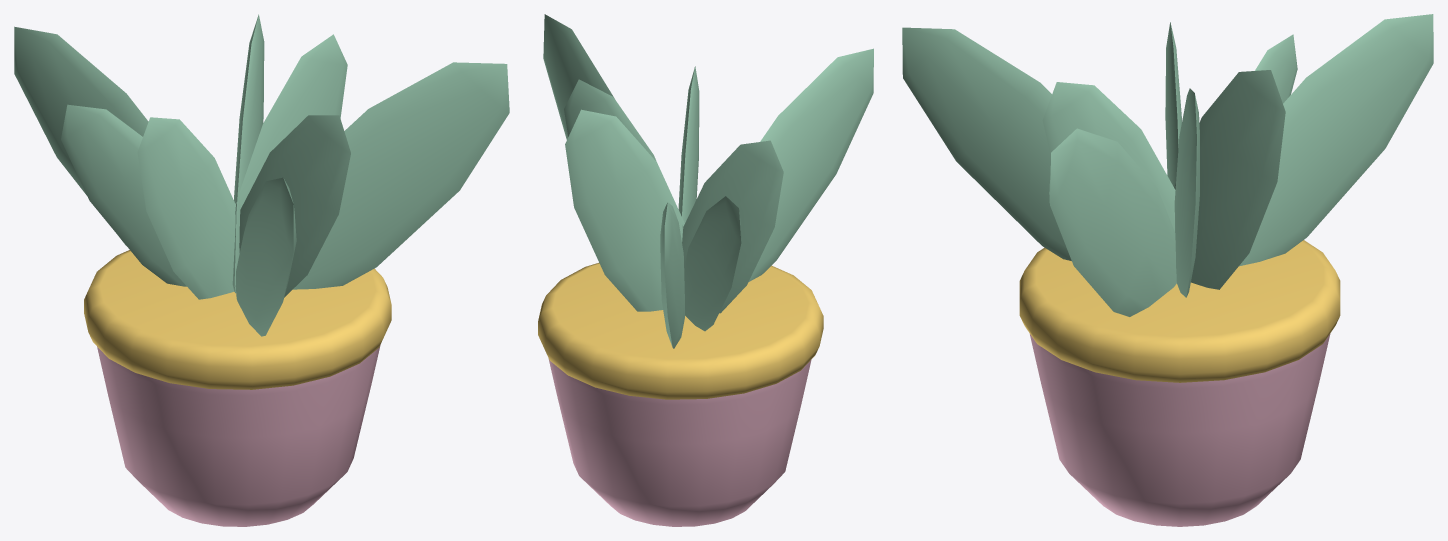
The model's file is plant_small.glb.
The picture shows the model from 3 angles, left to right: view 1: azimuth 30°, elevation 25°; view 2: azimuth 150°, elevation 25°; view 3: azimuth 270°, elevation 25°; orthographic projection. The views are drawn at different scales.
Parts seen in each view (by area): view 1: plant_small; view 2: plant_small; view 3: plant_small.
Part boxes in pixels (bbox=[...]): plant_small: bbox=[14, 14, 509, 526]; plant_small: bbox=[538, 14, 873, 526]; plant_small: bbox=[902, 14, 1433, 526].
Size of the model in its own units: 0.2502 by 0.3008 by 0.3188.
